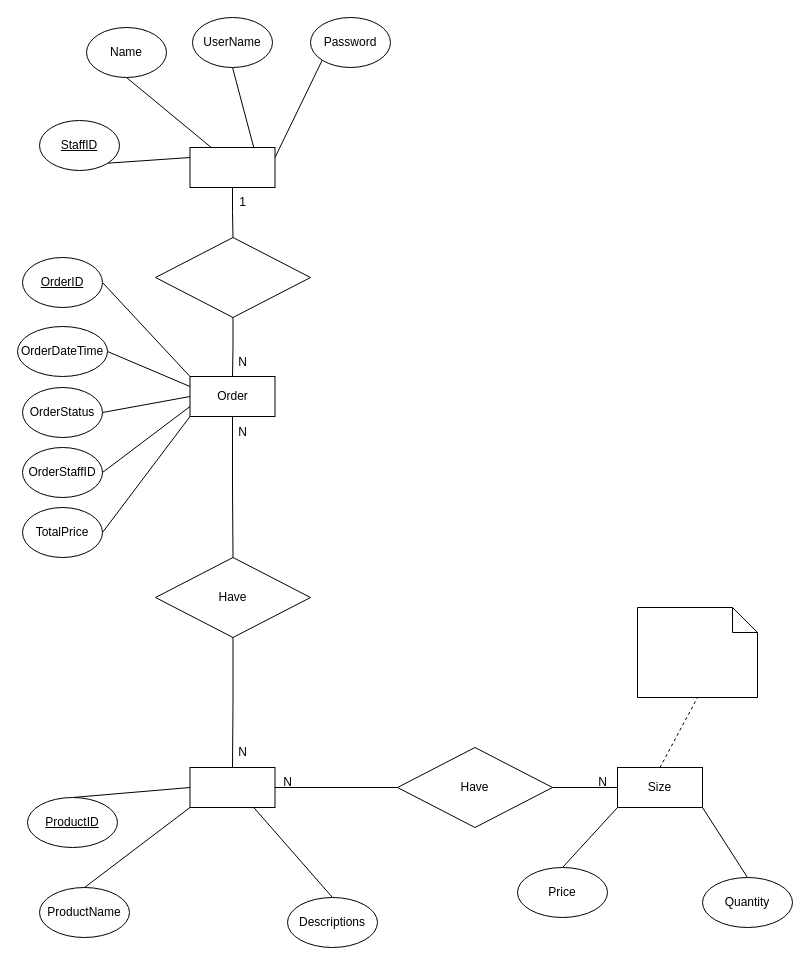
Image size: 810x965. Some labels were removed from this diagram. The shapes that lost their labels are listed below. From the top down, each one's centre as x and y in pixels, then its label:
point 232,167: Staffs
point 232,277: Create
point 697,652: Size S, Size M, Size L
point 232,787: Product
